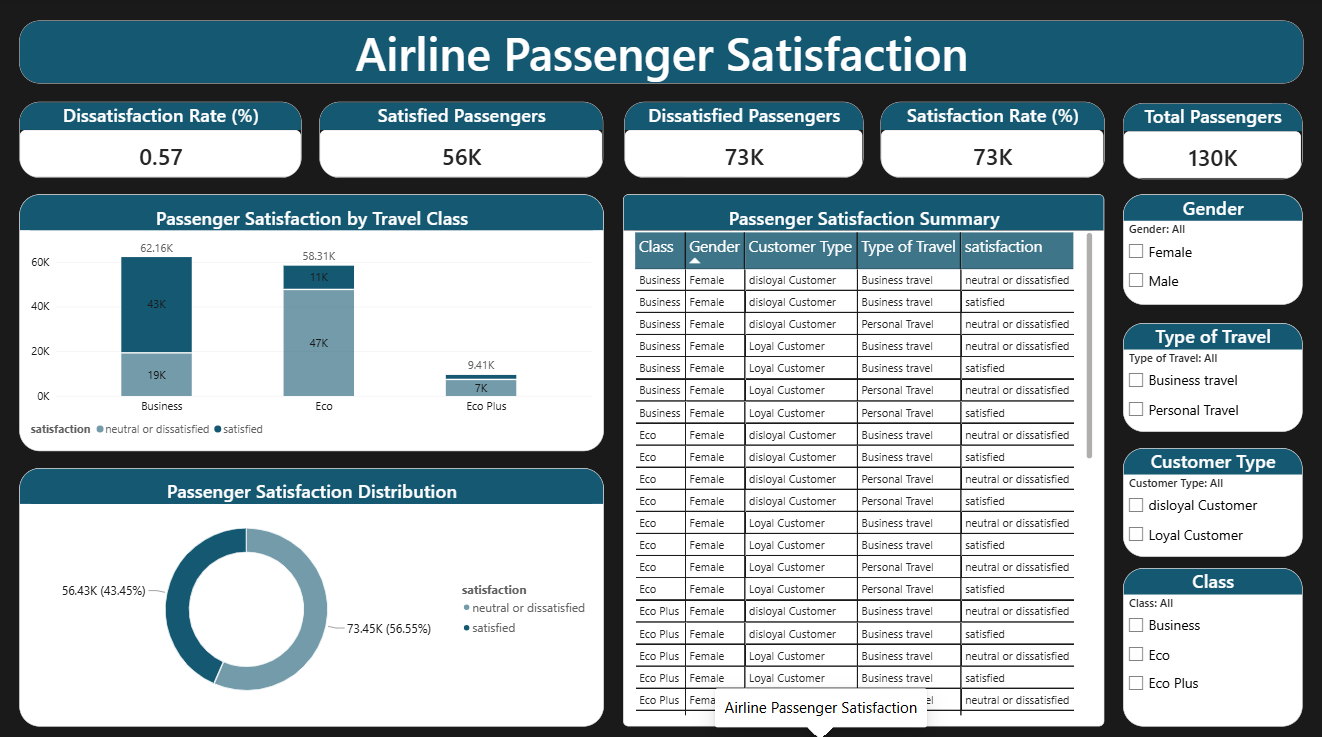

The dashboard page shown, as its layout file describes it:
{"tool":"powerbi","page":{"name":"Airline Passenger Satisfaction","canvas":[1920,1080],"ordinal":3},"visuals":[{"type":"textbox","title":"Airline Passenger Satisfaction","box":[30.3,32.5,1859,90.9],"z":0},{"type":"cardVisual","title":"\tTotal Passengers","fields":{"Data":["airline_cleaned.Total Passengers"]},"box":[1629.6,151.5,259.7,110.4],"z":1000},{"type":"cardVisual","title":"Satisfied Passengers","fields":{"Data":["airline_cleaned.Satisfied Passengers"]},"box":[465.3,149.3,411.2,110.4],"z":2000},{"type":"cardVisual","title":"Dissatisfied Passengers","fields":{"Data":["airline_cleaned.Dissatisfied Passengers"]},"box":[906.8,149.3,346.3,110.4],"z":3000},{"type":"cardVisual","title":"Satisfaction Rate (%)","fields":{"Data":["airline_cleaned.Dissatisfied Passengers"]},"box":[1276.8,149.3,324.6,110.4],"z":4000},{"type":"cardVisual","title":"Dissatisfaction Rate (%)","fields":{"Data":["airline_cleaned.Dissatisfaction Rate"]},"box":[30.3,149.3,409,110.4],"z":5000},{"type":"donutChart","title":"Passenger Satisfaction Distribution","fields":{"Category":["airline_cleaned.satisfaction"],"Y":["CountNonNull(airline_cleaned.id)"]},"box":[30.3,679.5,846.2,374.4],"z":6000},{"type":"columnChart","title":"Passenger Satisfaction by Travel Class","fields":{"Category":["airline_cleaned.Class"],"Series":["airline_cleaned.satisfaction"],"Y":["CountNonNull(airline_cleaned.id)"]},"box":[30.3,283.5,846.2,372.2],"z":7000},{"type":"tableEx","title":"Passenger Satisfaction Summary","fields":{"Values":["airline_cleaned.Class","airline_cleaned.Gender","airline_cleaned.Customer Type","airline_cleaned.Type of Travel","airline_cleaned.satisfaction"]},"box":[904.6,283.5,696.9,770.4],"z":8000},{"type":"slicer","title":"Gender","fields":{"Values":["airline_cleaned.Gender"]},"box":[1629.6,283.5,259.7,160.1],"z":9000},{"type":"slicer","title":"Class","fields":{"Values":["airline_cleaned.Class"]},"box":[1629.6,824.5,259.7,229.4],"z":10000},{"type":"slicer","title":"Customer Type","fields":{"Values":["airline_cleaned.Customer Type"]},"box":[1629.6,651.4,259.7,158],"z":11000},{"type":"slicer","title":"Type of Travel","fields":{"Values":["airline_cleaned.Type of Travel"]},"box":[1629.6,469.6,259.7,158],"z":12000}]}

Visuals, with their boxes in screenshot pixels (x1, y1, x2, y2), scaled from the page's 1920x1080 canvas onto the 1322x737 screenshot:
"Airline Passenger Satisfaction" textbox: region(21, 22, 1301, 84)
"	Total Passengers" cardVisual: region(1122, 103, 1301, 179)
"Satisfied Passengers" cardVisual: region(320, 102, 604, 177)
"Dissatisfied Passengers" cardVisual: region(624, 102, 863, 177)
"Satisfaction Rate (%)" cardVisual: region(879, 102, 1103, 177)
"Dissatisfaction Rate (%)" cardVisual: region(21, 102, 302, 177)
"Passenger Satisfaction Distribution" donutChart: region(21, 464, 604, 719)
"Passenger Satisfaction by Travel Class" columnChart: region(21, 193, 604, 447)
"Passenger Satisfaction Summary" tableEx: region(623, 193, 1103, 719)
"Gender" slicer: region(1122, 193, 1301, 303)
"Class" slicer: region(1122, 563, 1301, 719)
"Customer Type" slicer: region(1122, 445, 1301, 552)
"Type of Travel" slicer: region(1122, 320, 1301, 428)
